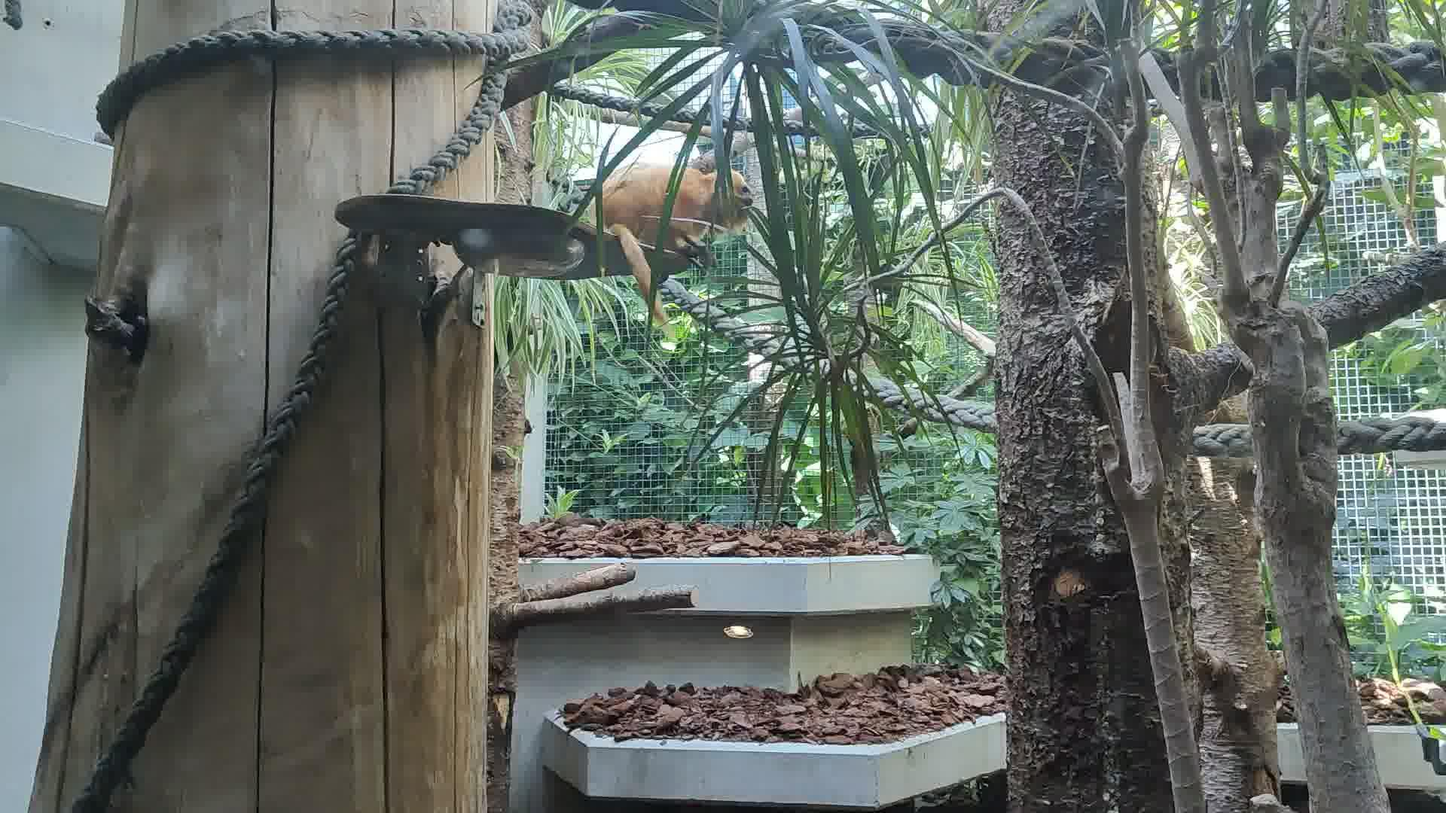boar: (592, 162, 755, 332)
